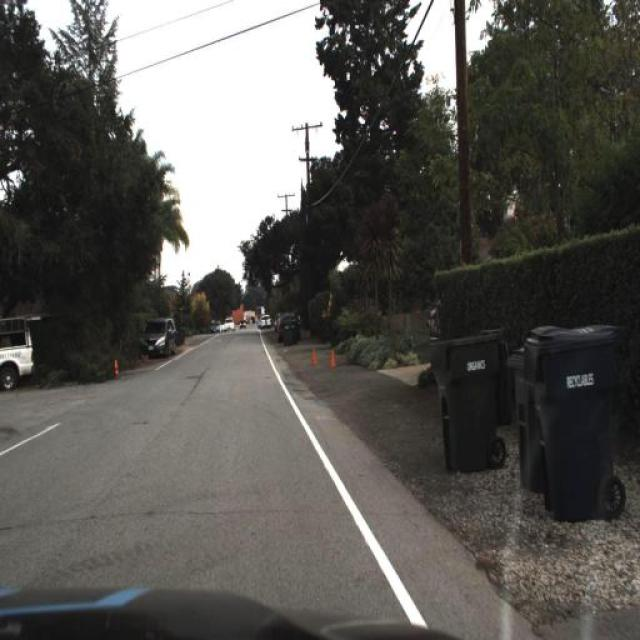car: (1, 312, 38, 401), (137, 314, 177, 362)
